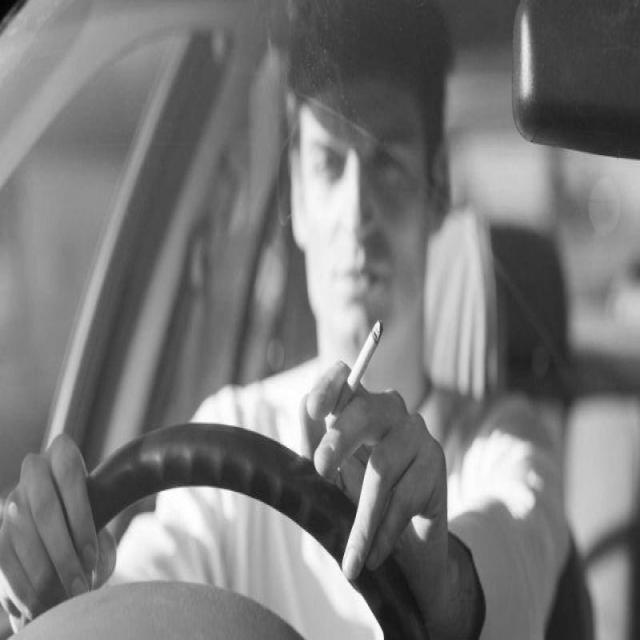Cigarette: (327, 310, 388, 427)
